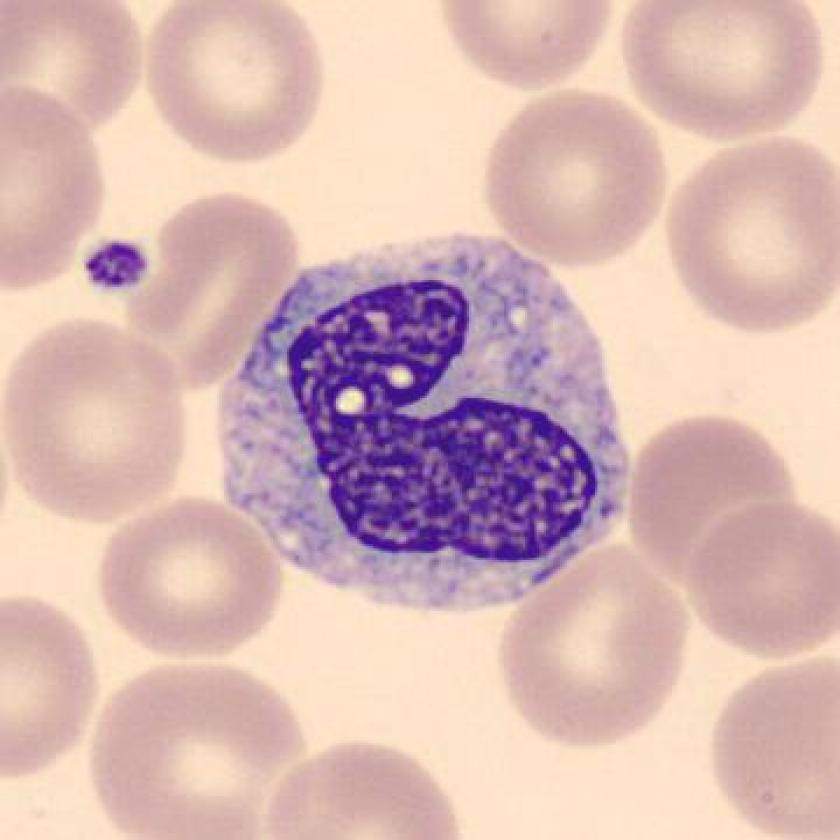monocyte: (202, 214, 650, 633)
